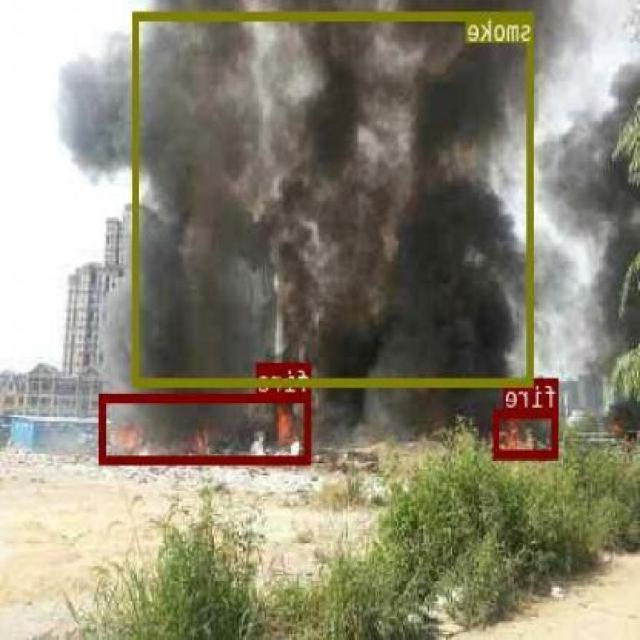Fire: (488, 407, 558, 450), (118, 404, 156, 452), (264, 406, 306, 442)
Smoke: (103, 0, 640, 458)
